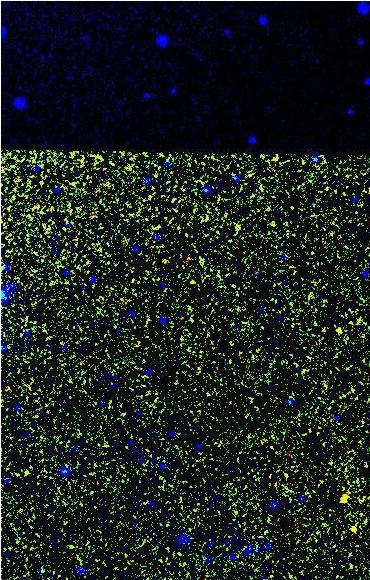star: (327, 483, 357, 513)
